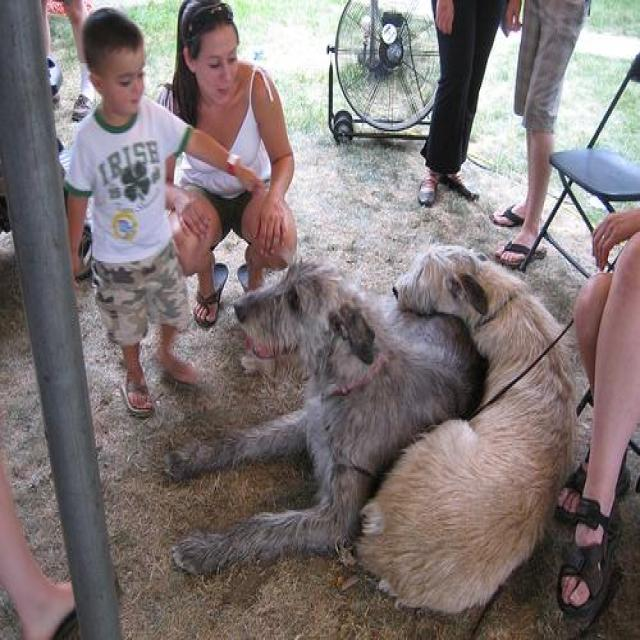irish_wolfhound: (160, 259, 488, 599), (360, 248, 580, 616)
